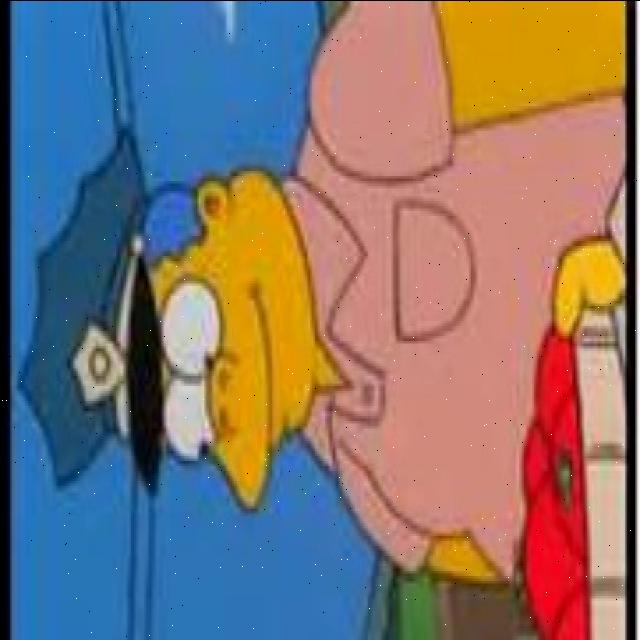Chief Wiggam: (15, 130, 323, 515)
